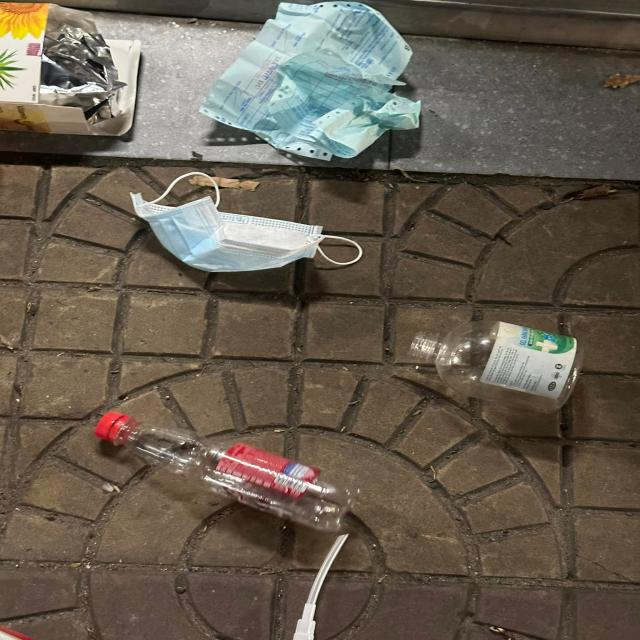bottle: (95, 412, 361, 534), (411, 323, 583, 411)
cardboard box: (0, 0, 141, 141)
mask: (134, 170, 362, 273)
paper: (200, 2, 422, 162)
